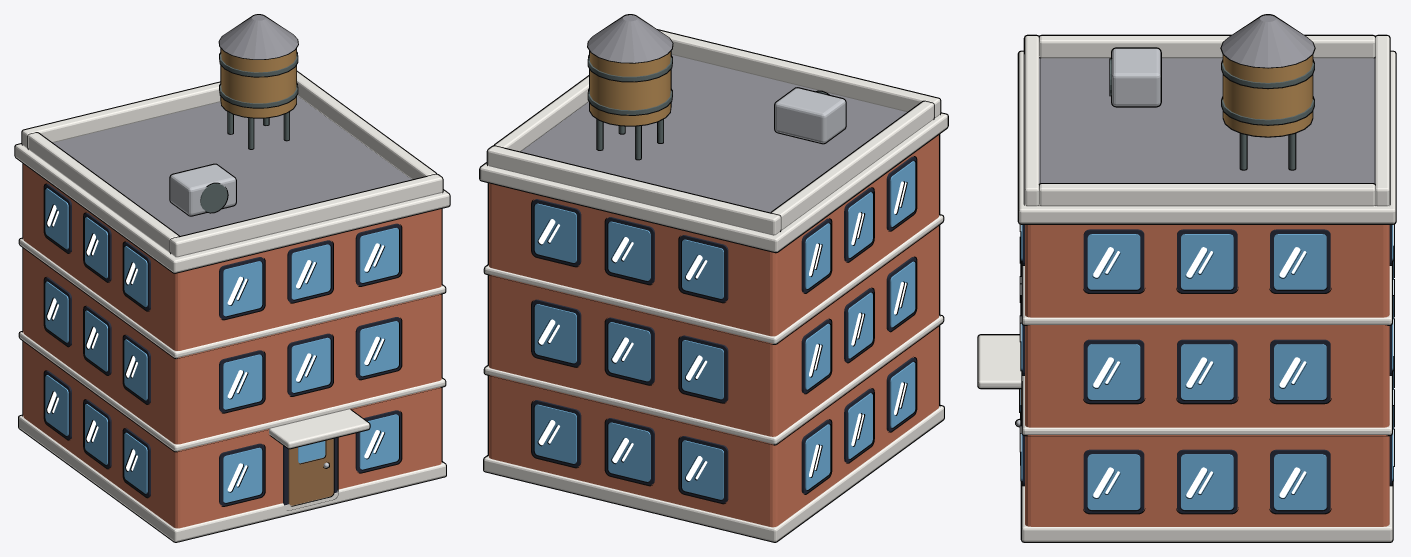
File: Building_Short_Brick.fbx
3 views of the same model, side by side, from view 1: azimuth 30°, elevation 25°; view 2: azimuth 150°, elevation 25°; view 3: azimuth 270°, elevation 25° (orthographic). The views are drawn at different scales.
Parts seen in each view (by area): view 1: Building_Short_Brick; view 2: Building_Short_Brick; view 3: Building_Short_Brick.
Part boxes in pixels (left/top/right/bottom): Building_Short_Brick: left=14, top=14, right=450, bottom=542; Building_Short_Brick: left=479, top=14, right=948, bottom=542; Building_Short_Brick: left=977, top=14, right=1396, bottom=542.
Bounding box in the file's own units: 18.72 × 26.03 × 20.72.
